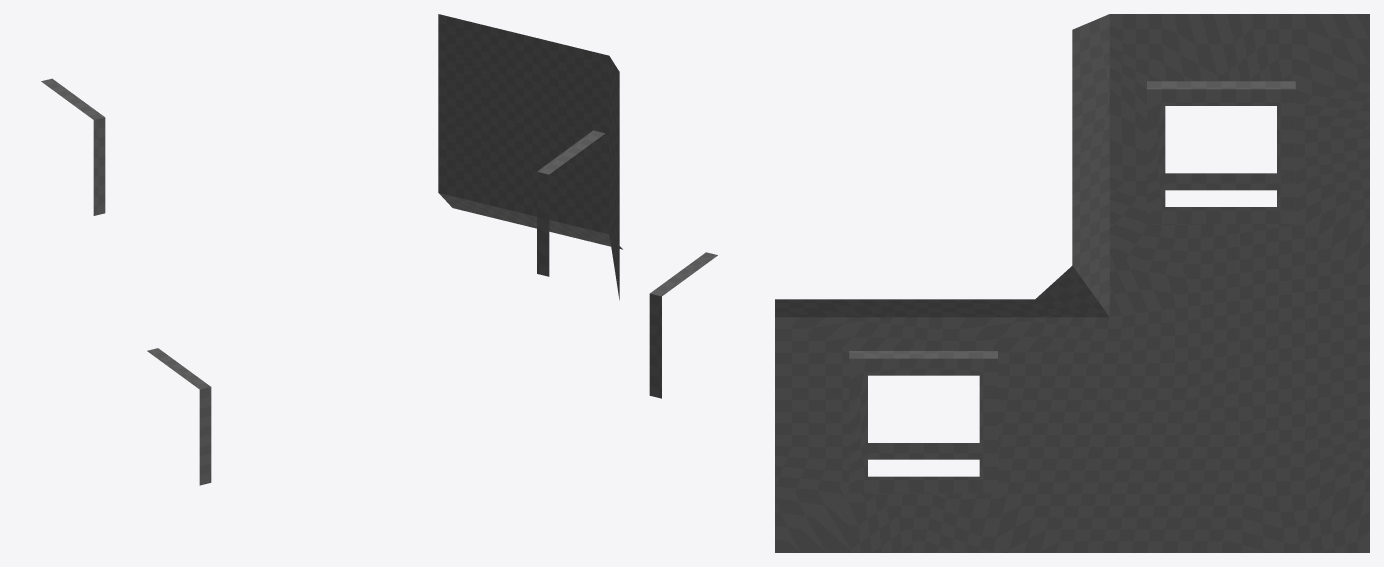
3 views of the same model, side by side, from view 1: azimuth 30°, elevation 25°; view 2: azimuth 150°, elevation 25°; view 3: azimuth 270°, elevation 25° (orthographic). The views are drawn at different scales.
Visible parts, largest first — view 1: 2; view 2: 2; view 3: 2.
Boxes of the visible parts, x1,y1,x2,y2 form: 2: (41, 78, 211, 485); 2: (438, 14, 717, 398); 2: (775, 14, 1369, 552).
Bounding box in the file's own units: 2 × 4 × 4.
Materials: 2 (2 with a texture image).
